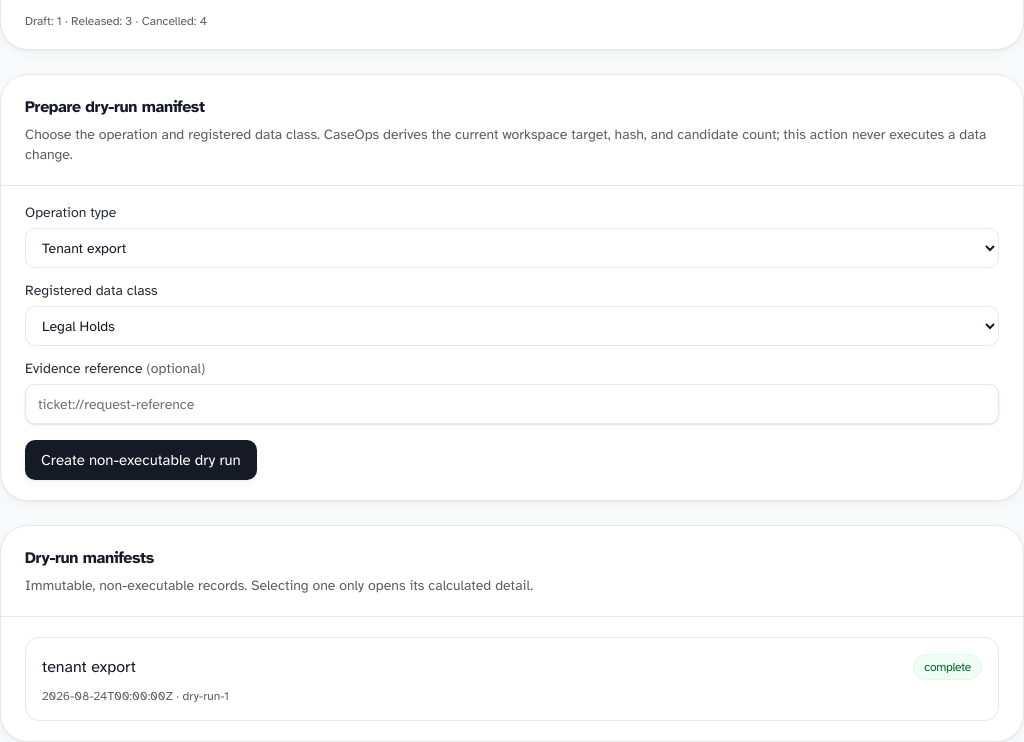
DataGovernancePage › opens manifest detail without exposing an approval or execution control
The width and height of the screenshot is (1024, 742).
(page scrolled)
Click the button with test id "dry-run-dry-run-1" at (89, 667), box [25,637,999,721]
(page scrolled)
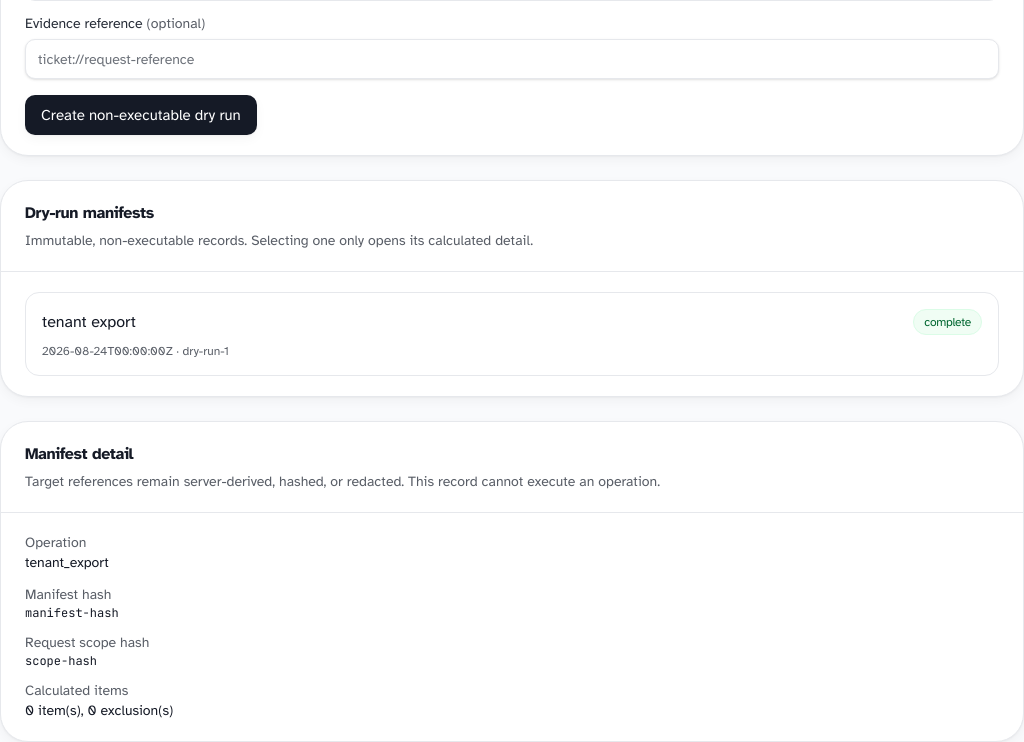
Now the text "manifest-hash" is shown, box [25,605,119,621]
Now the text "cannot execute an operation" is shown, box [25,473,660,490]
